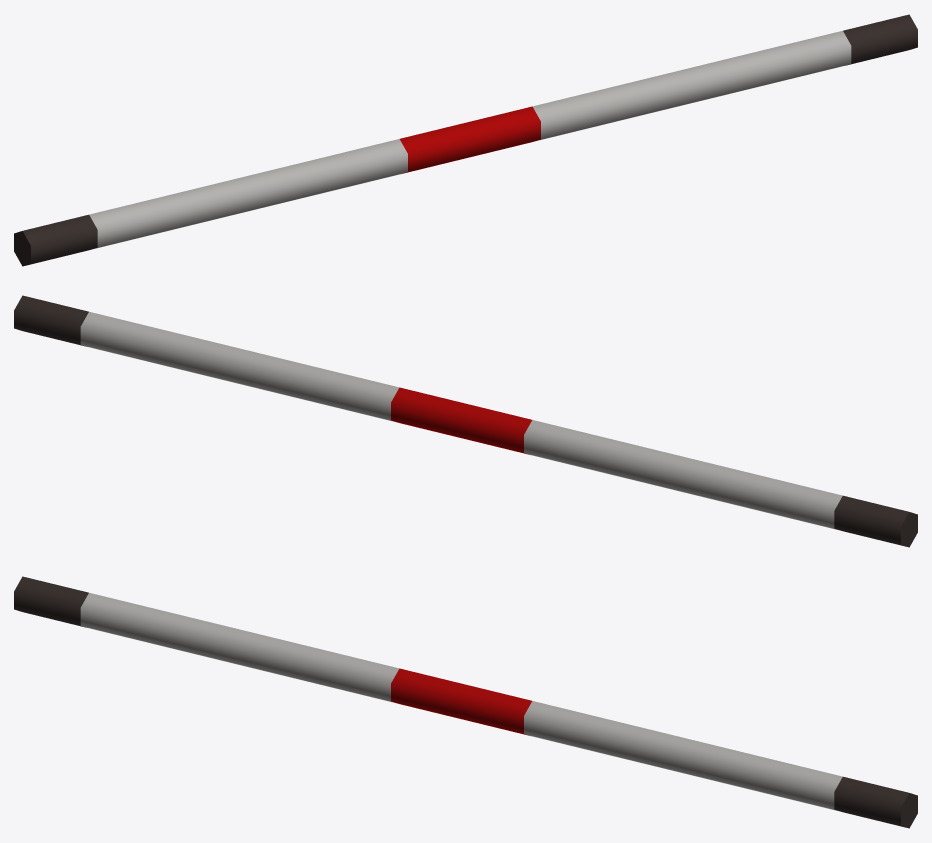
The model's file is probarrier1.fbx.
The picture shows the model from 3 angles, top to bottom: view 1: azimuth 30°, elevation 25°; view 2: azimuth 150°, elevation 25°; view 3: azimuth 330°, elevation 25°; orthographic projection.
Parts seen in each view (by area): view 1: probarrier1; view 2: probarrier1; view 3: probarrier1.
Boxes of the visible parts, x1,y1,x2,y2 form: probarrier1: (14, 14, 917, 266); probarrier1: (14, 295, 917, 547); probarrier1: (14, 576, 917, 828).
Bounding box in the file's own units: 650 × 25 × 21.65.
